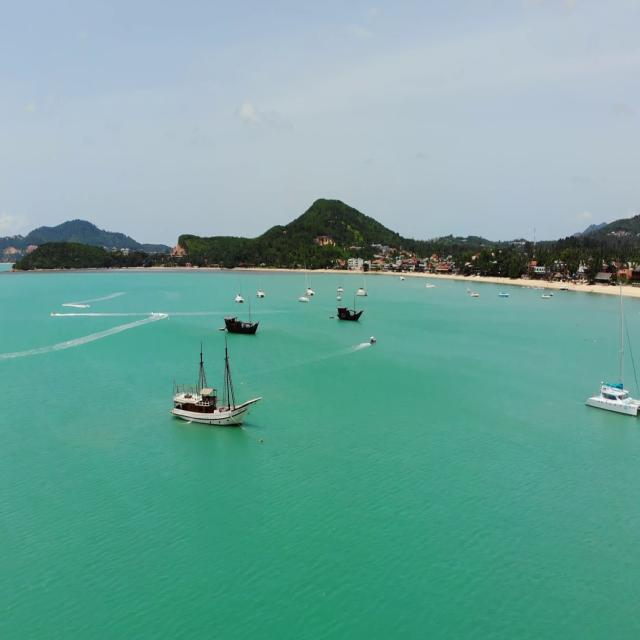fishing boat: (160, 334, 267, 435), (590, 316, 640, 434), (322, 280, 368, 330), (218, 302, 256, 328)
